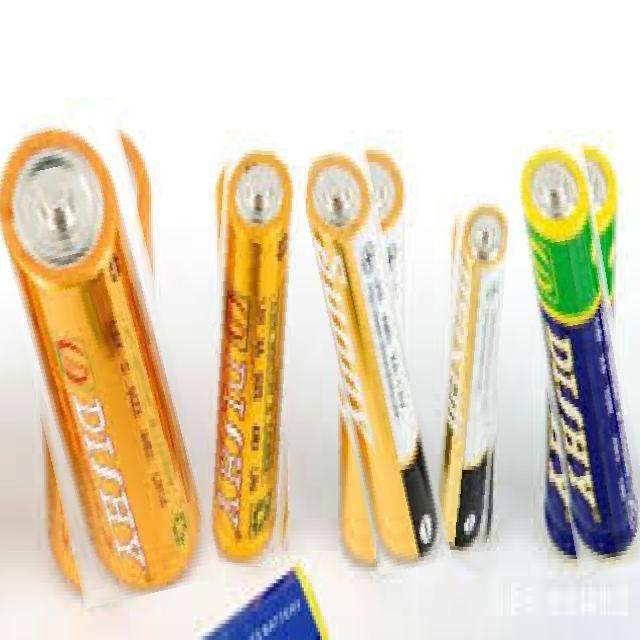Battery: (0, 115, 202, 599), (299, 147, 443, 564), (515, 139, 639, 567), (209, 145, 295, 569), (432, 203, 513, 556)
